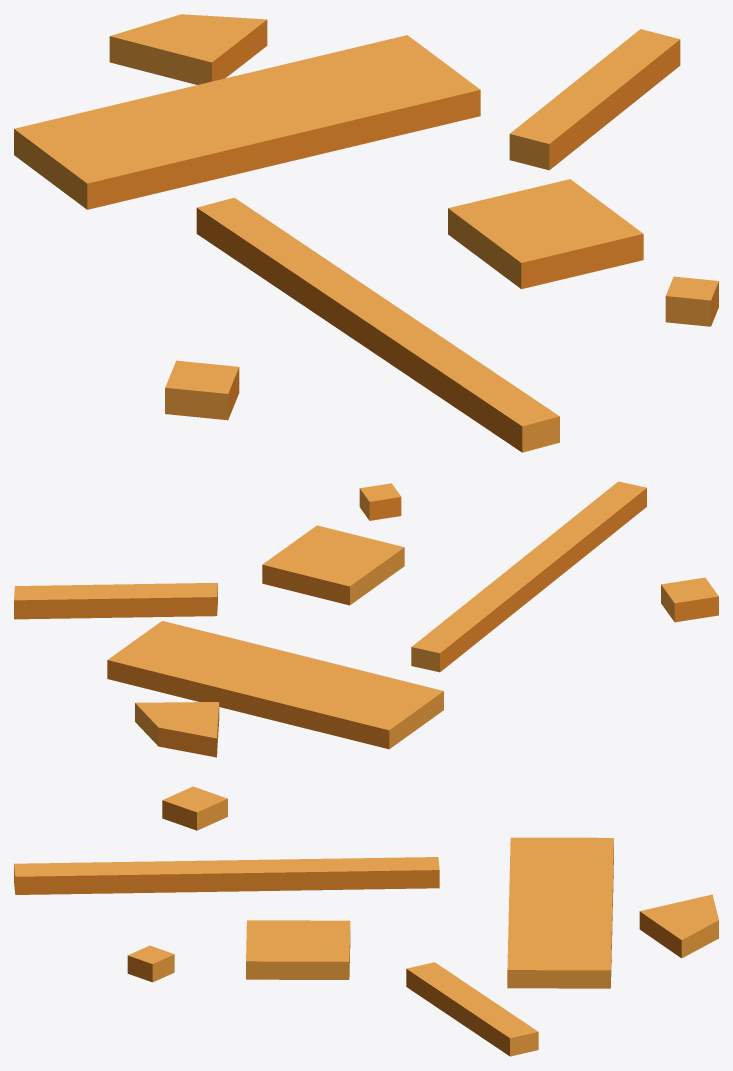
Rendered from rubble_04.fbx.
3 renders of one model, top to bottom at view 1: azimuth 30°, elevation 25°; view 2: azimuth 150°, elevation 25°; view 3: azimuth 270°, elevation 25°, orthographic. The views are drawn at different scales.
Parts seen in each view (by area): view 1: rubble_04; view 2: rubble_04; view 3: rubble_04.
Part boxes in pixels (left/top/right/bottom): rubble_04: left=14, top=14, right=718, bottom=452; rubble_04: left=14, top=481, right=718, bottom=757; rubble_04: left=14, top=786, right=718, bottom=1056.
Bounding box in the file's own units: 304 × 10.27 × 360.
